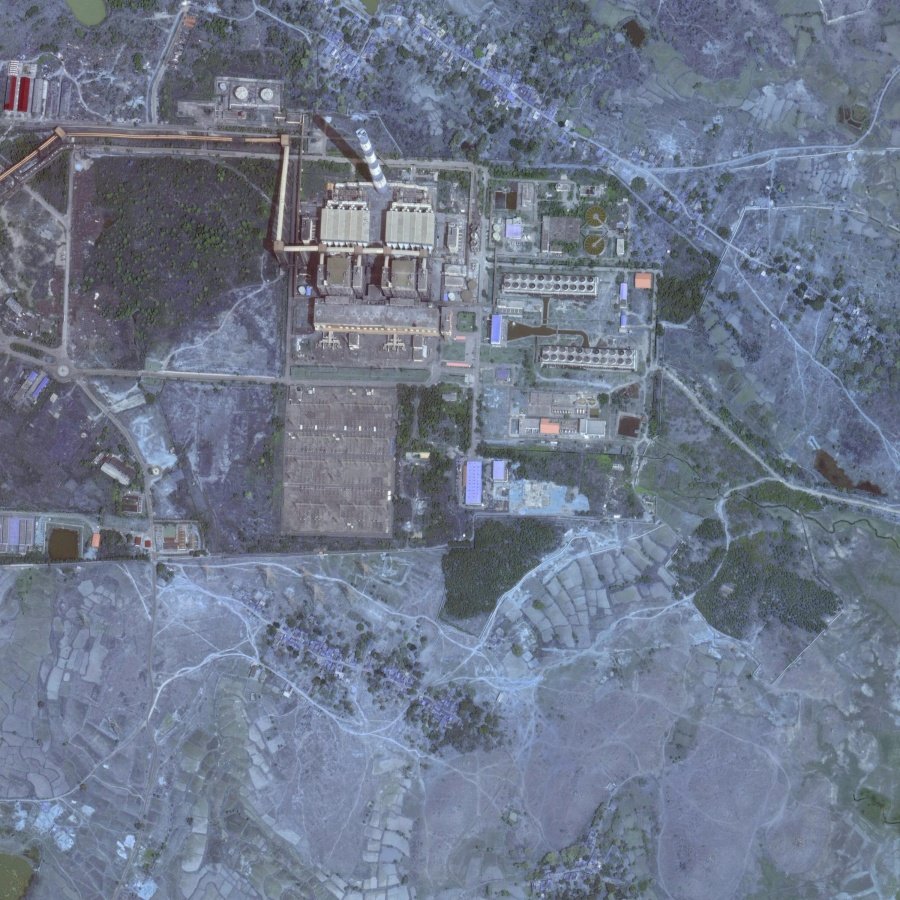PowerPlant: (287, 89, 441, 222)
